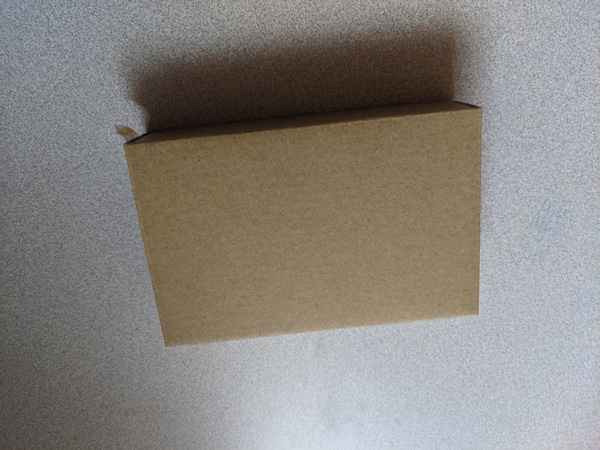cardboard: (104, 83, 497, 354)
